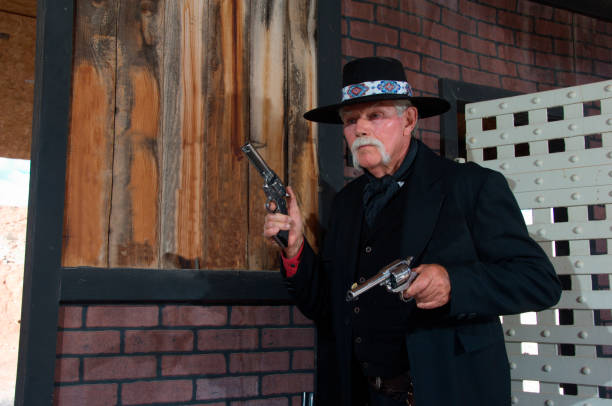gun: (243, 144, 290, 251), (343, 255, 419, 306)
